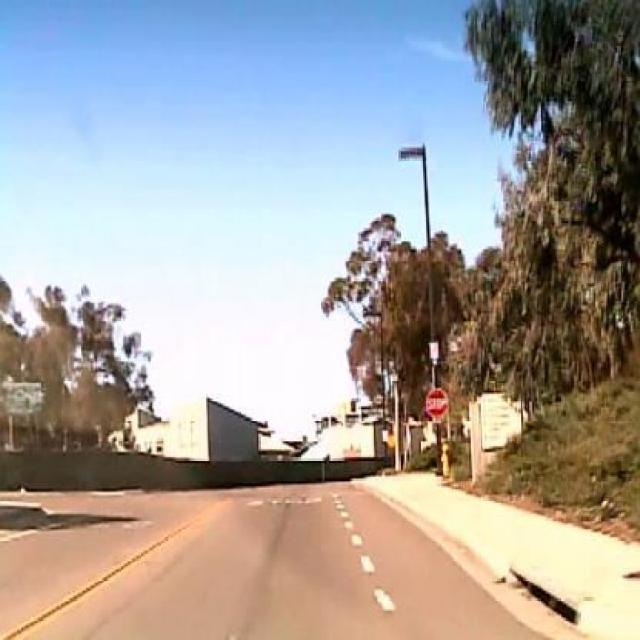Stop: (424, 388, 450, 420)
